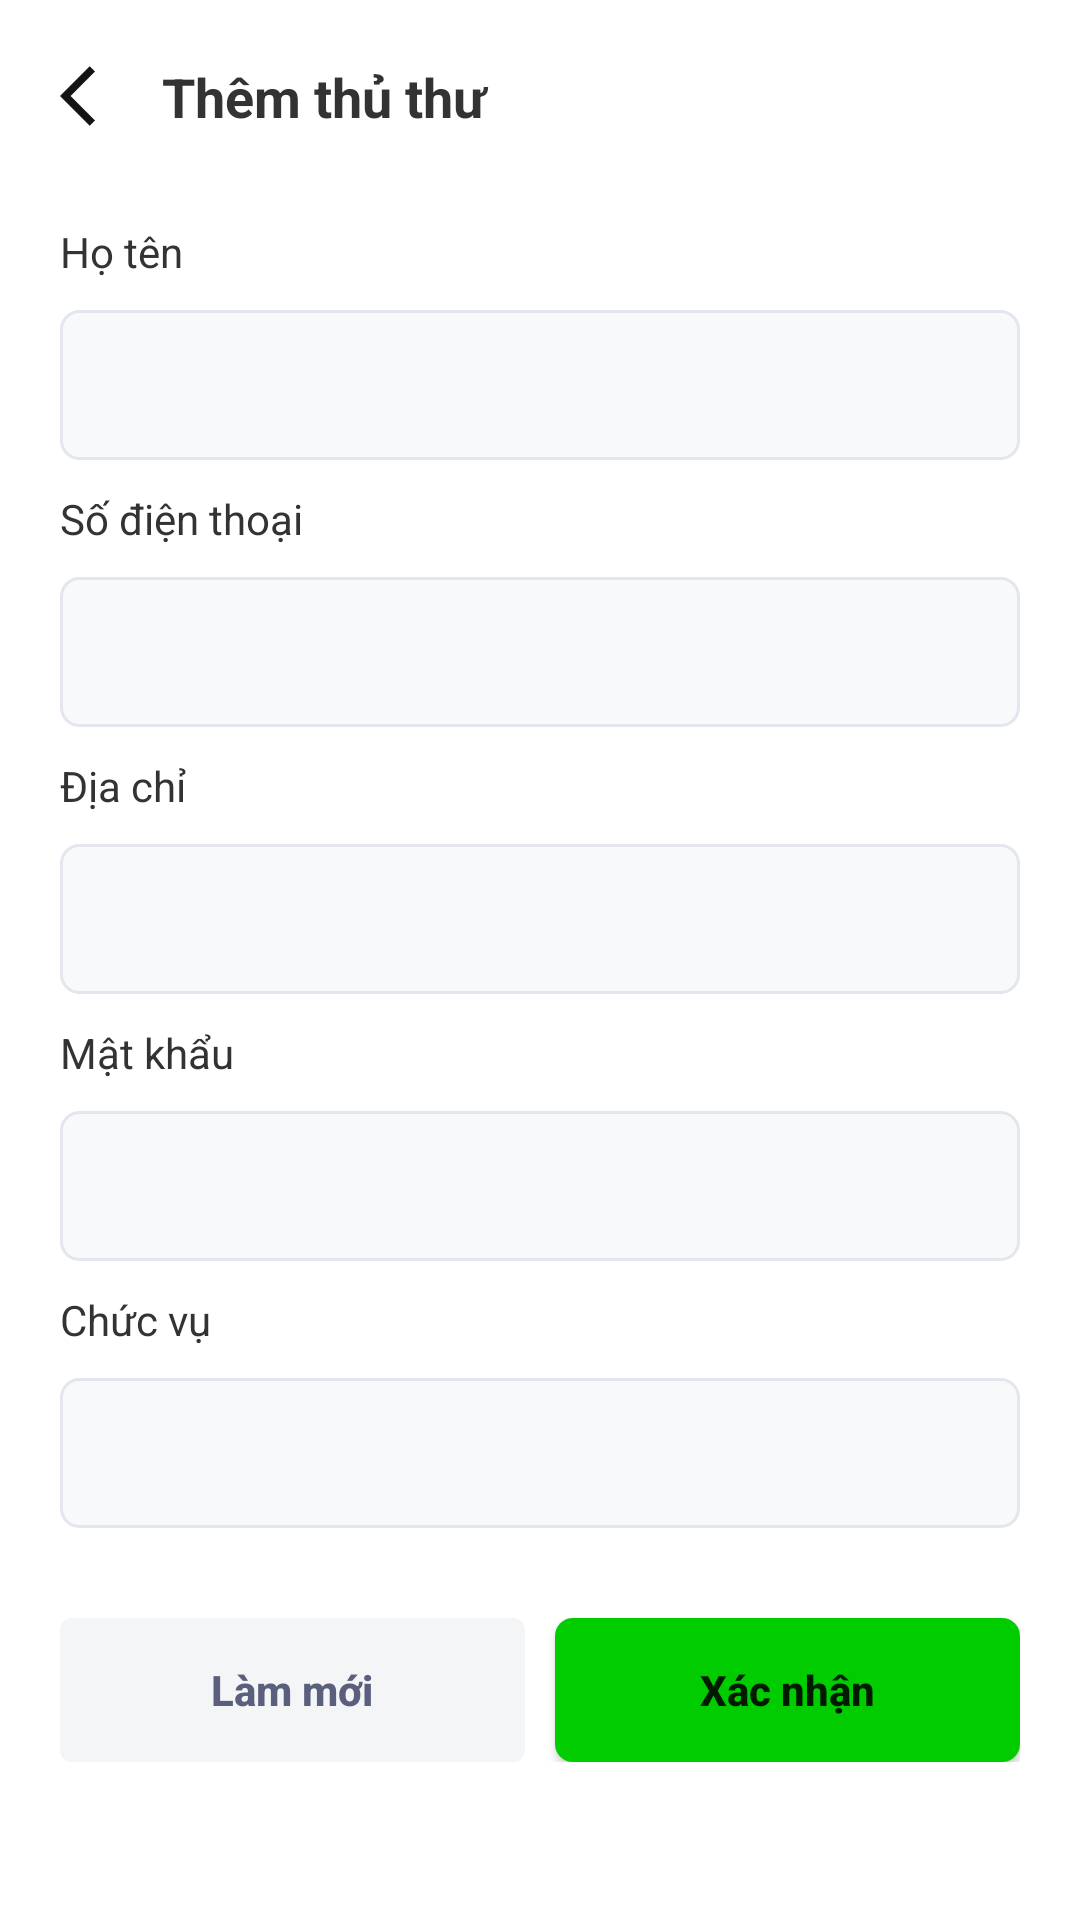

Locate icon controls on the screen. Image size 1080×1920, boxes as rect(x1, y1, x2, y2).
back: rect(60, 66, 95, 126)
